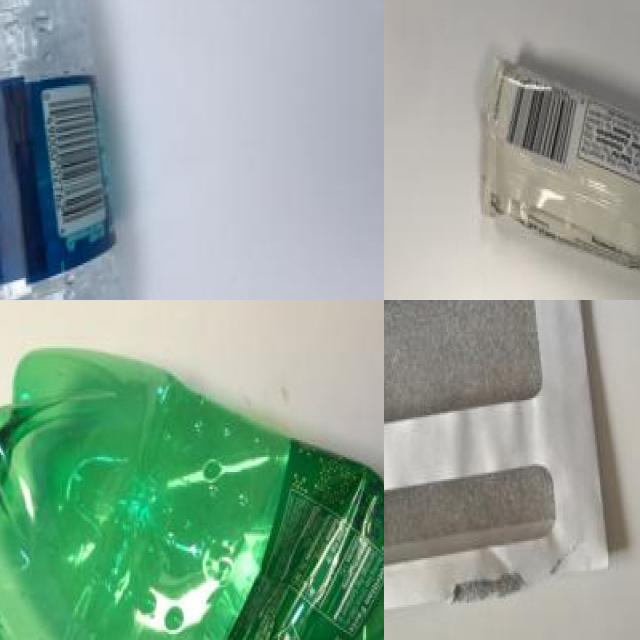paper: (384, 300, 620, 640)
plastic: (0, 331, 384, 640), (0, 0, 135, 300)
trash: (462, 26, 640, 300)
